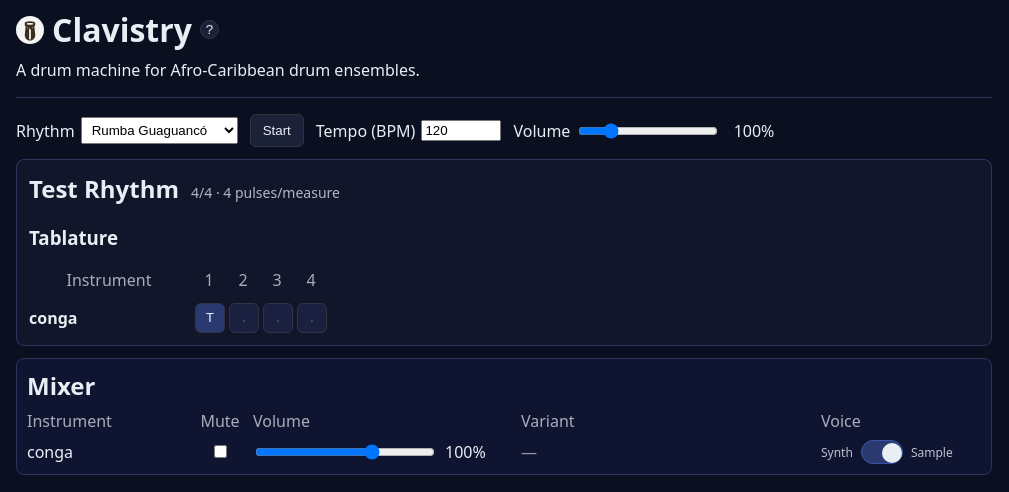
it: App component - samplesLoaded behavior › should toggle between Start and Stop button text
# Click to start
Click the button "Start". click: (277, 130)
box: x1=250 y1=114 x2=304 y2=147
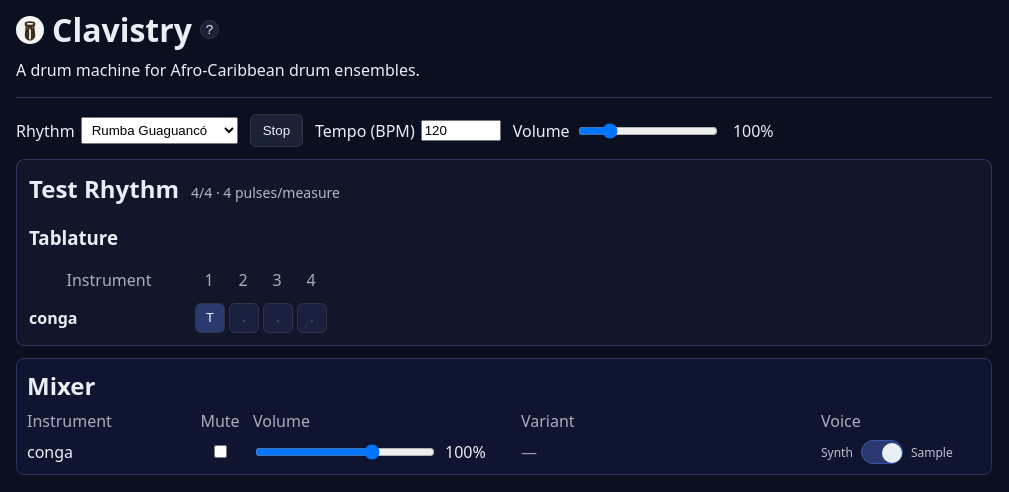
expect the button "Stop" is shown: met
# Click to stop
Click the button "Stop". click: (276, 130)
box: x1=250 y1=114 x2=303 y2=147
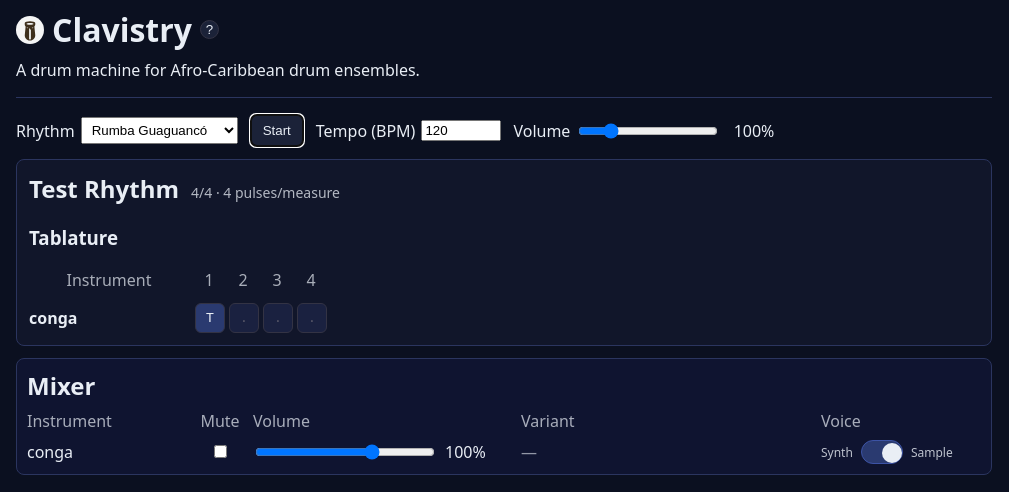
expect the button "Start" is shown: met, box x1=250 y1=114 x2=304 y2=147
